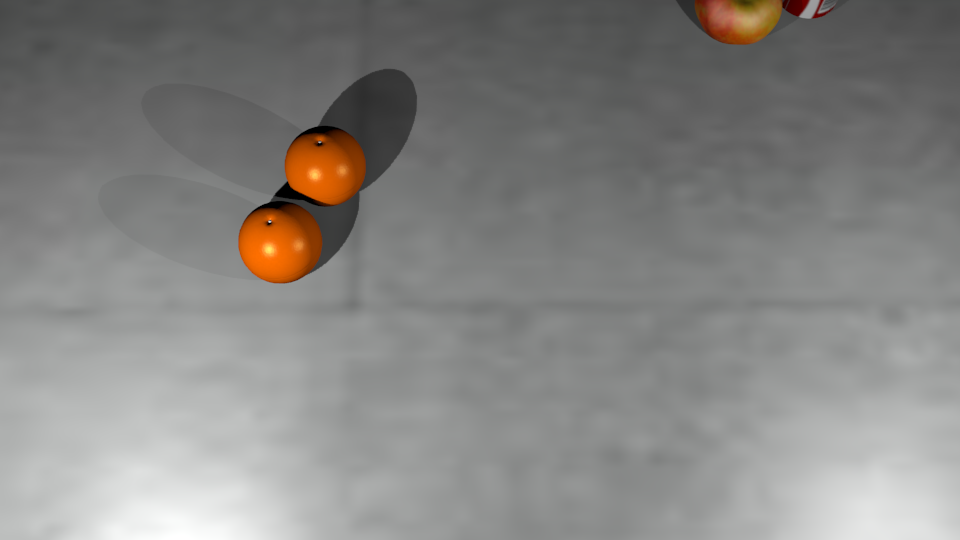apple: (696, 1, 783, 45)
cola_can: (778, 1, 838, 19)
orange: (239, 209, 323, 284), (285, 135, 366, 207)
